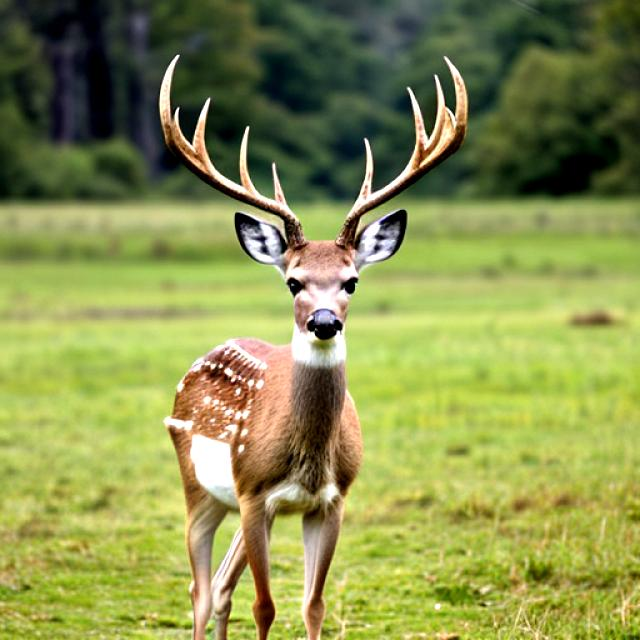deer: (159, 72, 454, 575)
